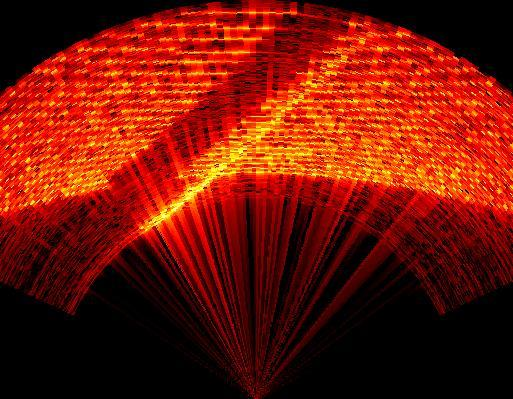pipe: (108, 6, 376, 227)
